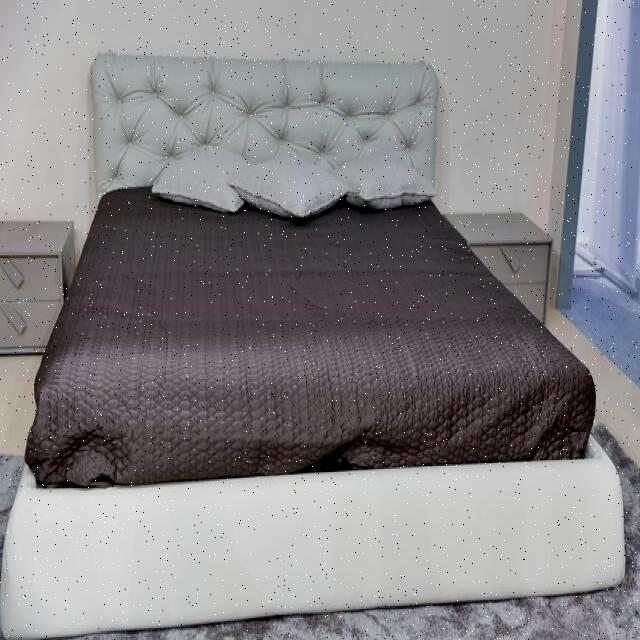bed: (75, 51, 524, 598)
